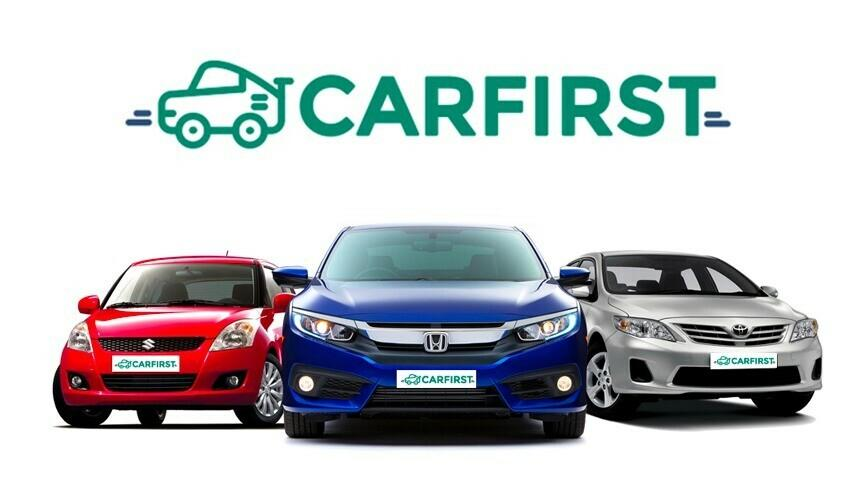windshield: (317, 223, 550, 284), (96, 256, 260, 313), (597, 251, 773, 303)
